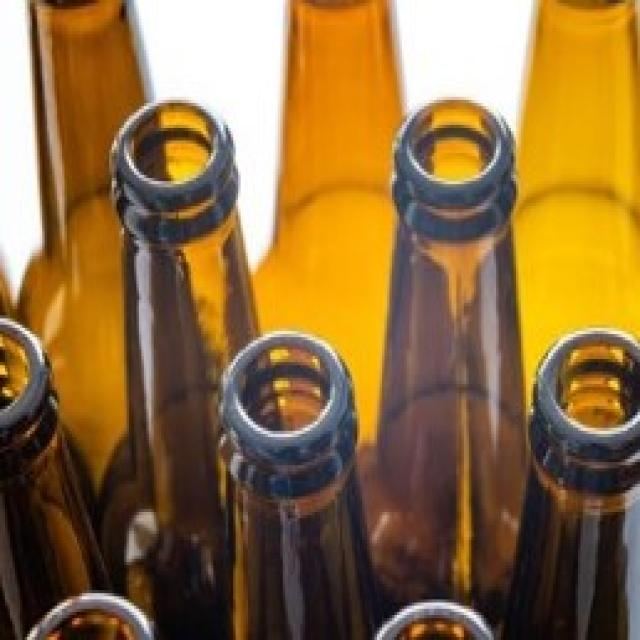electronic: (106, 97, 287, 640), (373, 98, 534, 640), (221, 328, 382, 640), (508, 321, 640, 636), (0, 312, 109, 637)
